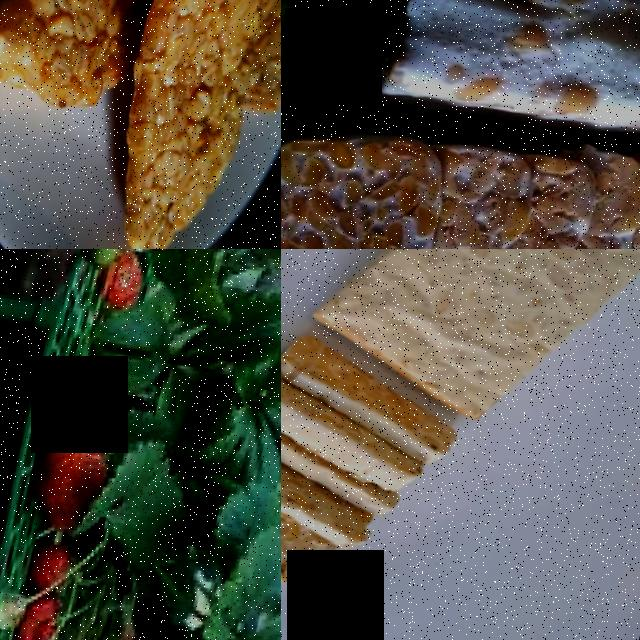tempeh: (281, 249, 640, 480), (345, 0, 640, 191), (281, 327, 469, 484), (281, 110, 455, 249), (389, 149, 536, 249), (480, 164, 608, 249), (281, 448, 342, 610)
